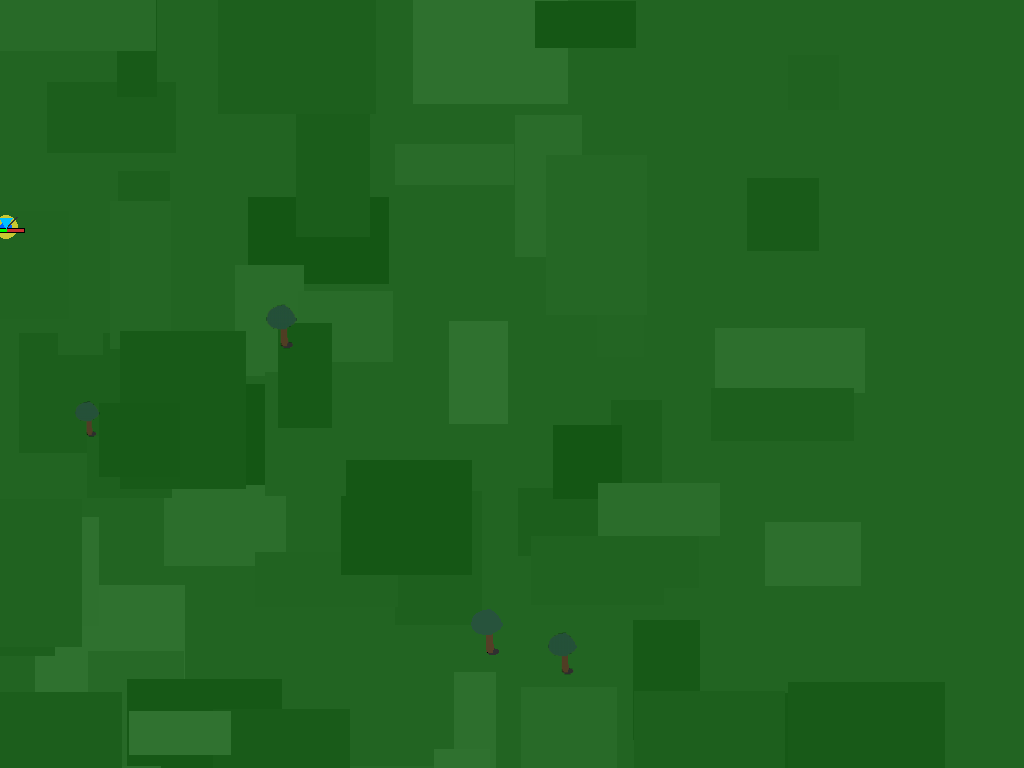CombatEngineer: (0, 206, 42, 248)
